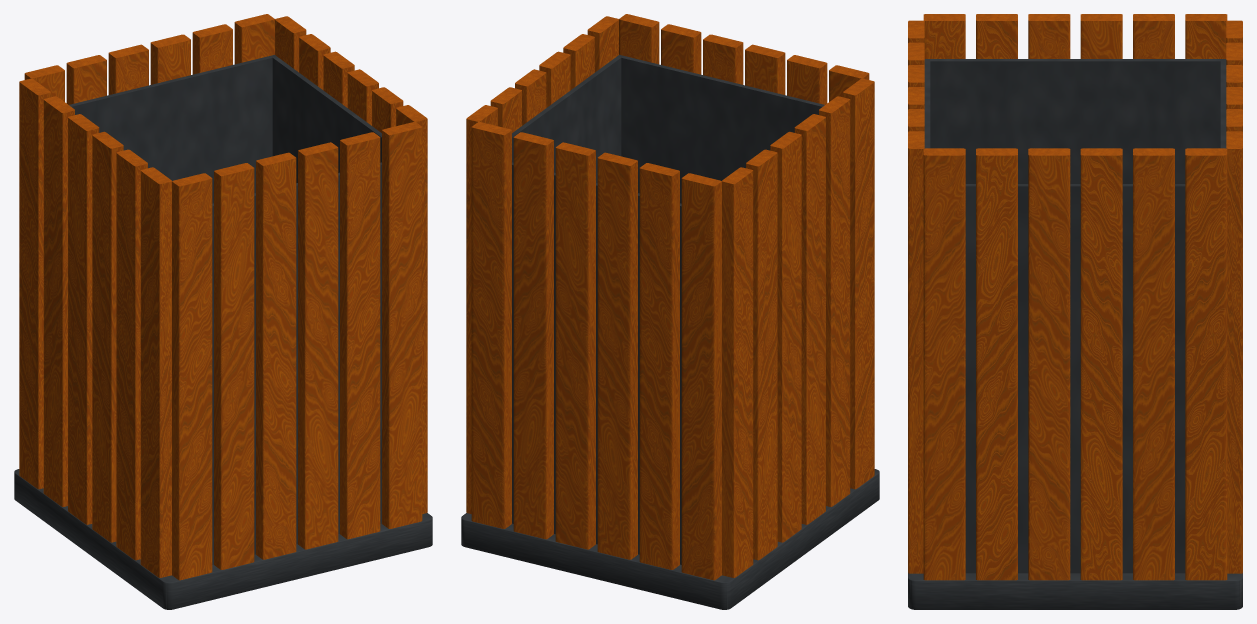
The model's file is bin.glb.
3 views of the same model, side by side, from view 1: azimuth 30°, elevation 25°; view 2: azimuth 150°, elevation 25°; view 3: azimuth 270°, elevation 25° (orthographic). The views are drawn at different scales.
Parts seen in each view (by area): view 1: bin; view 2: bin; view 3: bin.
Part boxes in pixels (<box>): bin: <box>14,14,432,609</box>; bin: <box>461,14,879,609</box>; bin: <box>908,14,1242,609</box>.
Size of the model in its own units: 0.4 by 0.6 by 0.4.
1 material, 1 textured.
